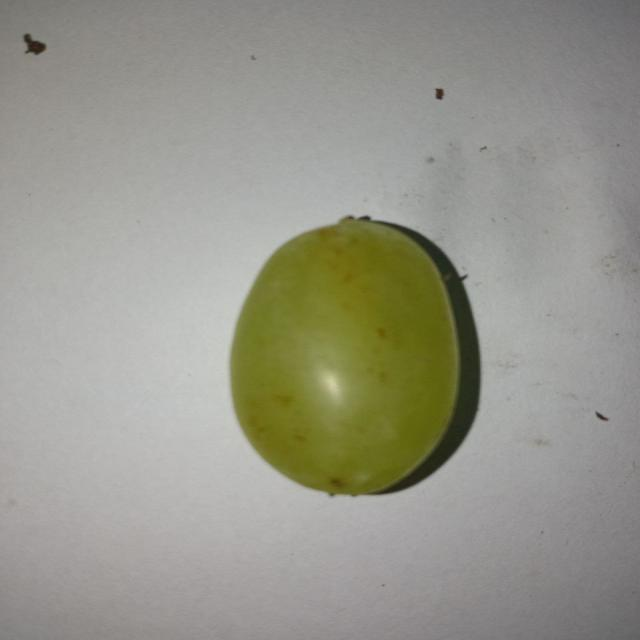fresh_grape: (228, 218, 463, 494)
